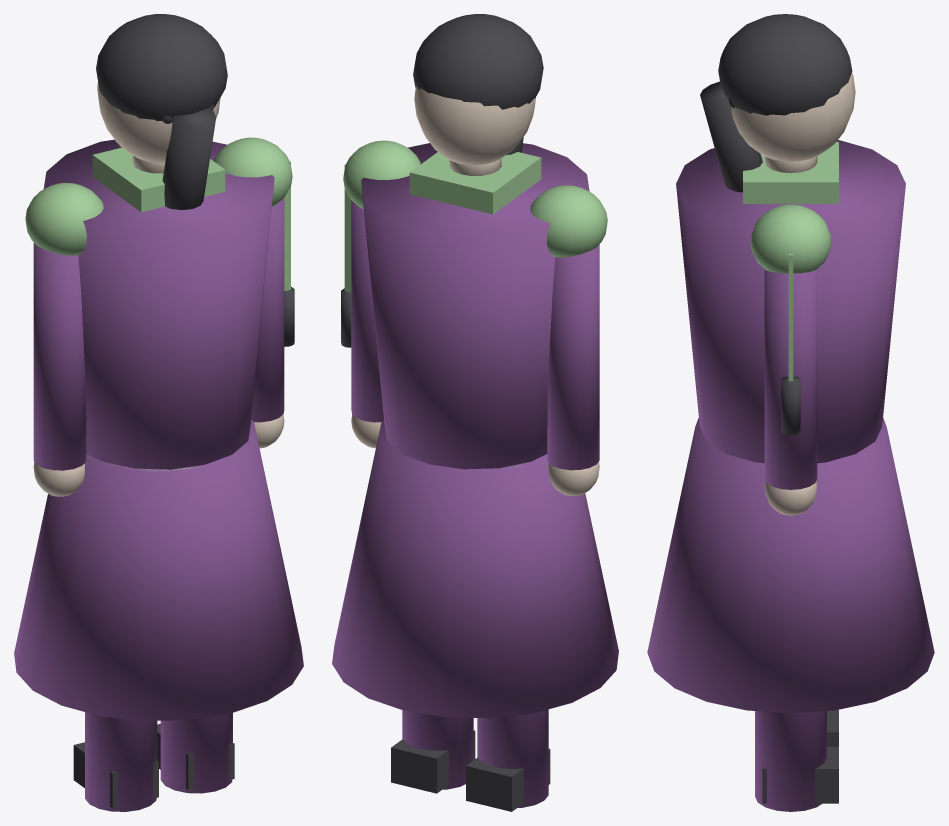
The model's file is bai-jiuer.glb.
3 renders of one model, left to right at view 1: azimuth 30°, elevation 25°; view 2: azimuth 150°, elevation 25°; view 3: azimuth 270°, elevation 25°, orthographic.
Visible parts, largest first — view 1: bai-jiuer_robe, bai-jiuer_torso, bai-jiuer_arm-0.235, bai-jiuer_hair, bai-jiuer_leg-0.09, bai-jiuer_arm0.235, bai-jiuer_leg0.09, bai-jiuer_shoulder-0.22, bai-jiuer_pigtail, bai-jiuer_collar, bai-jiuer_shoulder0.22, bai-jiuer_head (+6 smaller); view 2: bai-jiuer_robe, bai-jiuer_torso, bai-jiuer_arm-0.235, bai-jiuer_hair, bai-jiuer_head, bai-jiuer_collar, bai-jiuer_arm0.235, bai-jiuer_leg-0.09, bai-jiuer_shoulder-0.22, bai-jiuer_leg0.09, bai-jiuer_shoulder0.22, bai-jiuer_boot-0.09 (+6 smaller); view 3: bai-jiuer_robe, bai-jiuer_torso, bai-jiuer_hair, bai-jiuer_arm0.235, bai-jiuer_leg0.09, bai-jiuer_head, bai-jiuer_shoulder0.22, bai-jiuer_collar, bai-jiuer_pigtail, bai-jiuer_boot0.09, bai-jiuer_hand0.235, bai-jiuer_grip (+2 smaller).
Boxes of the visible parts, x1=… form: bai-jiuer_robe: x1=14, y1=420, x2=303, y2=720; bai-jiuer_torso: x1=43, y1=139, x2=274, y2=469; bai-jiuer_arm-0.235: x1=33, y1=242, x2=86, y2=470; bai-jiuer_hair: x1=96, y1=14, x2=227, y2=121; bai-jiuer_leg-0.09: x1=85, y1=712, x2=157, y2=811; bai-jiuer_arm0.235: x1=251, y1=198, x2=284, y2=422; bai-jiuer_leg0.09: x1=160, y1=713, x2=232, y2=793; bai-jiuer_shoulder-0.22: x1=25, y1=183, x2=103, y2=255; bai-jiuer_pigtail: x1=162, y1=107, x2=215, y2=210; bai-jiuer_collar: x1=92, y1=147, x2=225, y2=212; bai-jiuer_shoulder0.22: x1=214, y1=137, x2=292, y2=206; bai-jiuer_head: x1=97, y1=82, x2=220, y2=162; bai-jiuer_robe: x1=332, y1=420, x2=618, y2=718; bai-jiuer_torso: x1=361, y1=143, x2=589, y2=469; bai-jiuer_arm-0.235: x1=547, y1=244, x2=599, y2=470; bai-jiuer_hair: x1=413, y1=14, x2=543, y2=109; bai-jiuer_head: x1=414, y1=86, x2=535, y2=165; bai-jiuer_collar: x1=409, y1=152, x2=541, y2=214; bai-jiuer_arm0.235: x1=351, y1=200, x2=383, y2=422; bai-jiuer_leg-0.09: x1=477, y1=709, x2=548, y2=807; bai-jiuer_shoulder-0.22: x1=530, y1=185, x2=607, y2=257; bai-jiuer_leg0.09: x1=402, y1=710, x2=473, y2=789; bai-jiuer_shoulder0.22: x1=343, y1=140, x2=420, y2=209; bai-jiuer_boot-0.09: x1=466, y1=748, x2=550, y2=811; bai-jiuer_robe: x1=647, y1=417, x2=934, y2=713; bai-jiuer_torso: x1=676, y1=140, x2=905, y2=463; bai-jiuer_hair: x1=718, y1=14, x2=852, y2=115; bai-jiuer_arm0.235: x1=764, y1=269, x2=817, y2=489; bai-jiuer_leg0.09: x1=755, y1=711, x2=826, y2=811; bai-jiuer_head: x1=731, y1=73, x2=855, y2=161; bai-jiuer_shoulder0.22: x1=750, y1=204, x2=831, y2=273; bai-jiuer_collar: x1=743, y1=142, x2=838, y2=203; bai-jiuer_pigtail: x1=700, y1=81, x2=762, y2=192; bai-jiuer_boot0.09: x1=762, y1=746, x2=838, y2=803; bai-jiuer_hand0.235: x1=764, y1=481, x2=817, y2=515; bai-jiuer_grip: x1=781, y1=376, x2=800, y2=434.
Size of the model in its own units: 0.624 by 1.74 by 0.6.
